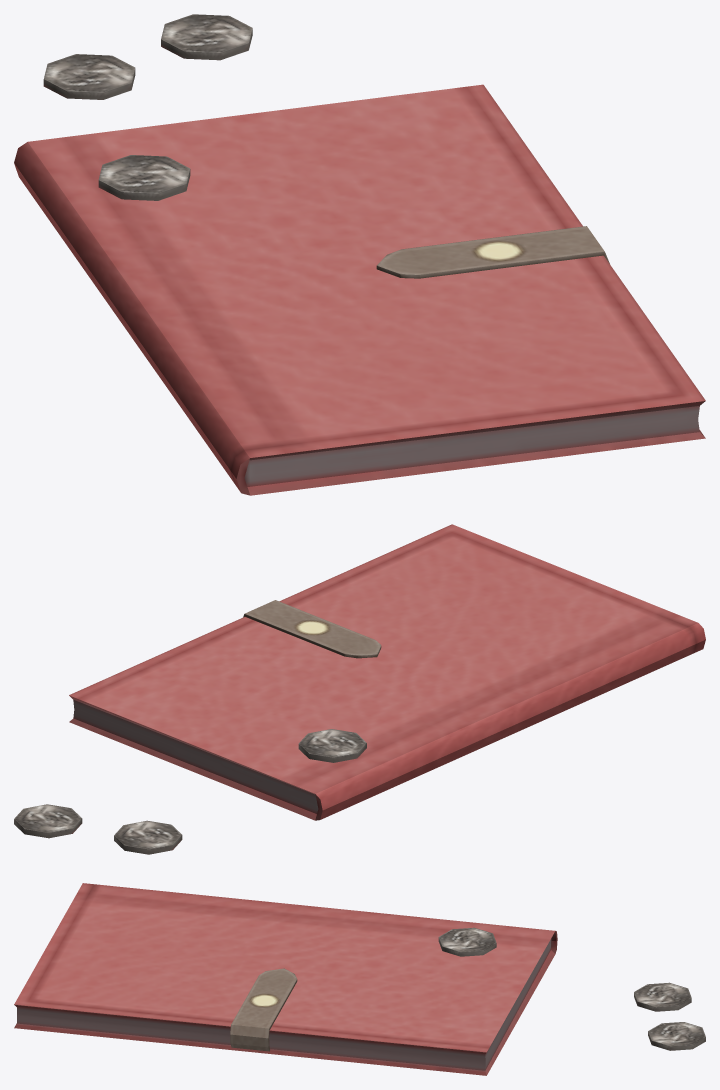
File: XiuXiShi_01_bijiben_01.FBX
3 views of the same model, one above another, from view 1: azimuth 30°, elevation 25°; view 2: azimuth 150°, elevation 25°; view 3: azimuth 270°, elevation 25° (orthographic). The views are drawn at different scales.
Visible parts, largest first — view 1: XiuXiShi_bijiben; view 2: XiuXiShi_bijiben; view 3: XiuXiShi_bijiben.
Part boxes in pixels (bbox=[...]): XiuXiShi_bijiben: bbox=[14, 14, 705, 495]; XiuXiShi_bijiben: bbox=[14, 524, 705, 854]; XiuXiShi_bijiben: bbox=[14, 883, 705, 1075].
Bounding box in the file's own units: 82.89 × 6.4 × 140.
